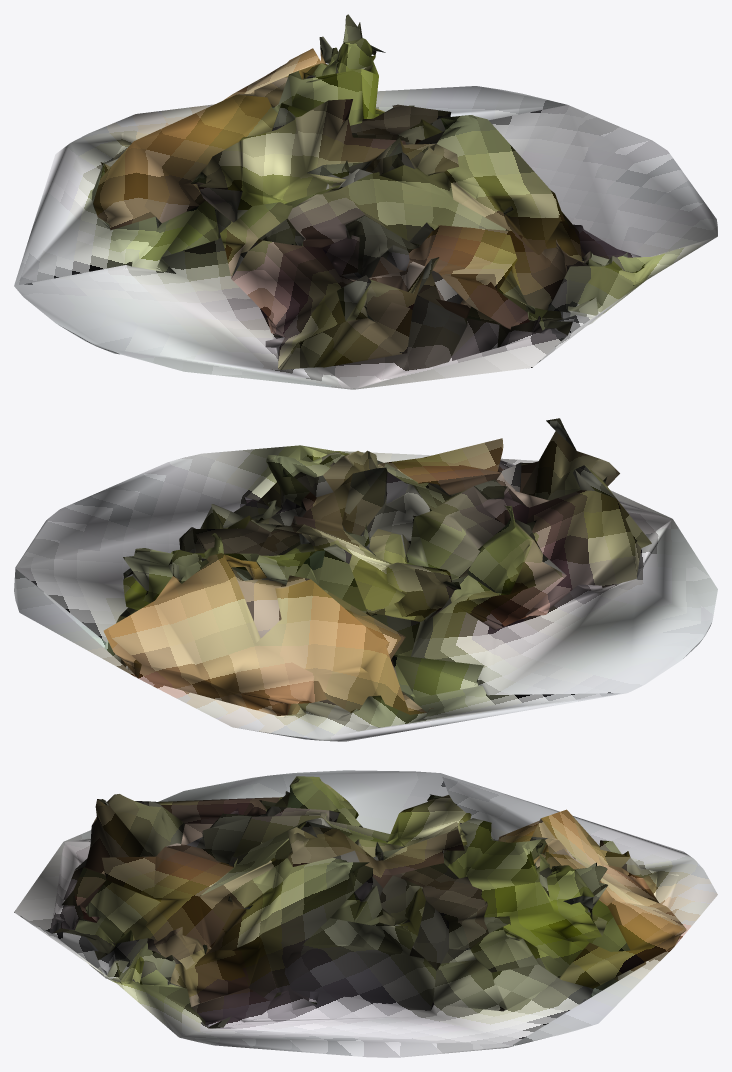
Rendered from ProSport_Harness_to_Booster_Seat-low.glb.
3 views of the same model, one above another, from view 1: azimuth 30°, elevation 25°; view 2: azimuth 150°, elevation 25°; view 3: azimuth 270°, elevation 25° (orthographic). The views are drawn at different scales.
Parts seen in each view (by area): view 1: ProSport_Harness_to_Booster_Seat; view 2: ProSport_Harness_to_Booster_Seat; view 3: ProSport_Harness_to_Booster_Seat.
Part boxes in pixels (left/top/right/bottom): ProSport_Harness_to_Booster_Seat: left=14, top=14, right=717, bottom=389; ProSport_Harness_to_Booster_Seat: left=14, top=418, right=717, bottom=741; ProSport_Harness_to_Booster_Seat: left=14, top=770, right=717, bottom=1057.
Size of the model in its own units: 0.2267 by 0.0473 by 0.2261.
Materials: 1 (1 with a texture image).
